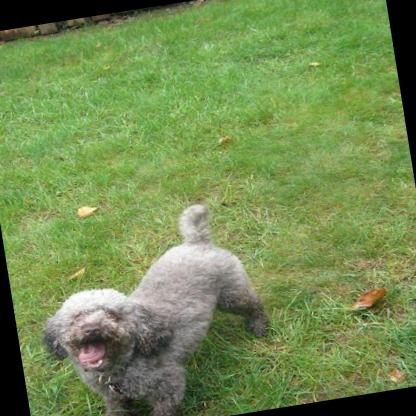miniature_poodle: (19, 192, 286, 416)
